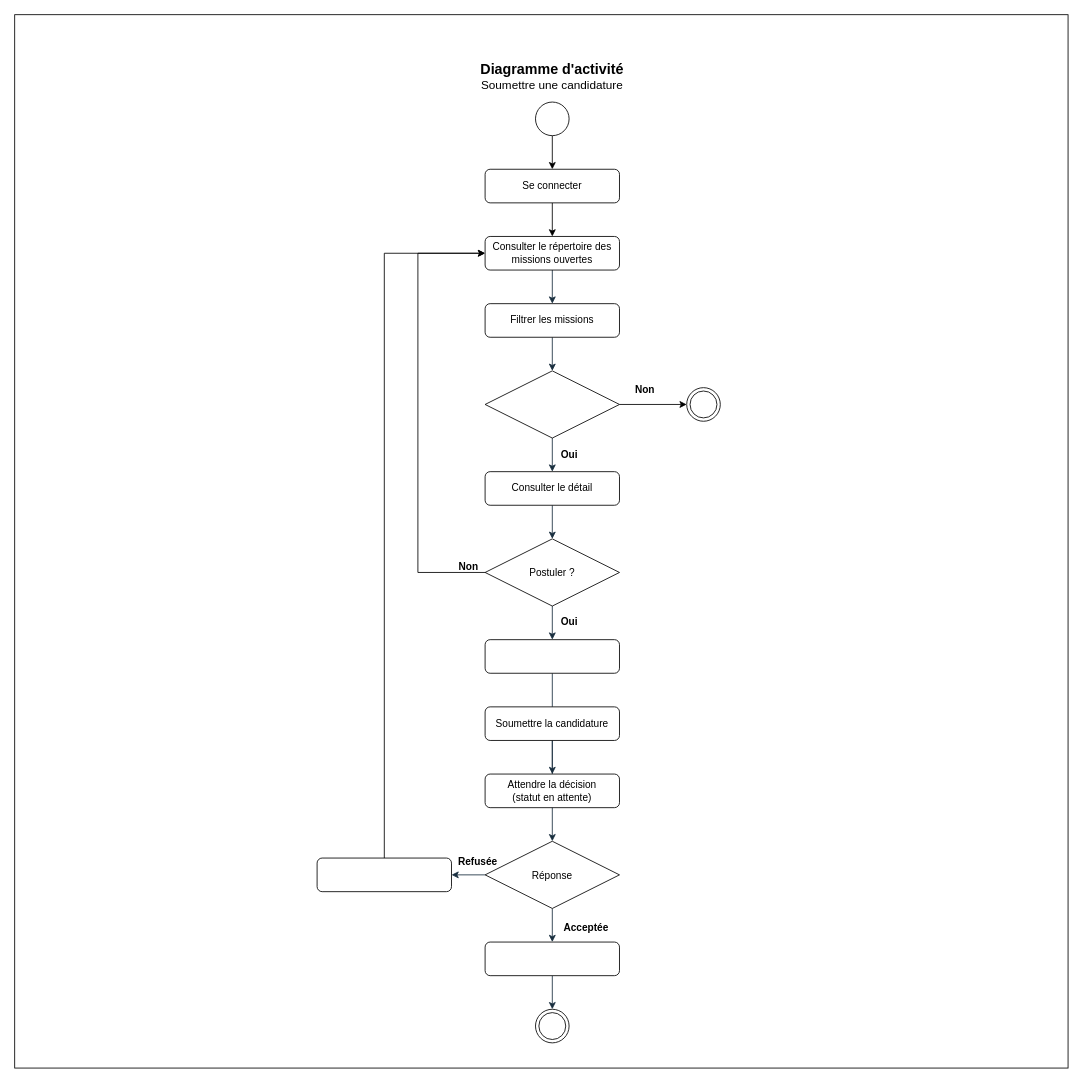
This 1083x1083 diagram has some shape labels left out. Each missing label, with the box of its shape:
Accéder à la messagerie: (484, 941, 620, 976)
Candidature refusée: (316, 857, 452, 892)
Rédiger le message + CV + liens vers projets: (484, 639, 620, 673)
Trouvée ?: (484, 370, 620, 438)
